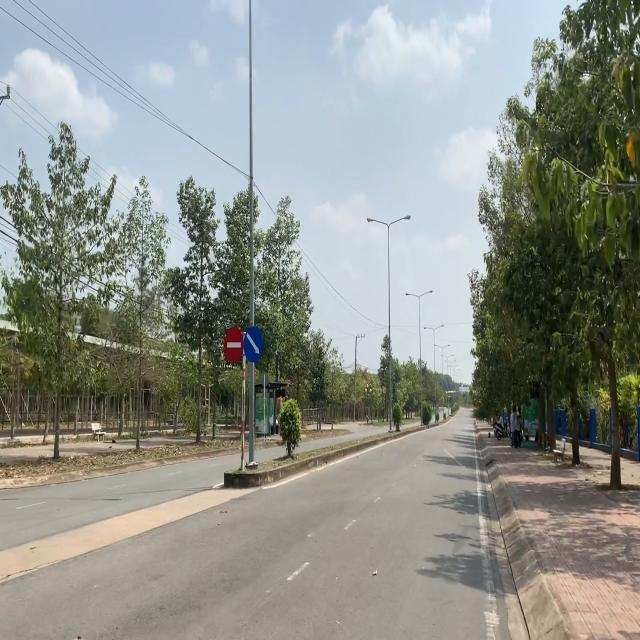Cam nguoc chieu: (224, 326, 244, 363)
Hieu lenh: (243, 326, 264, 363)
